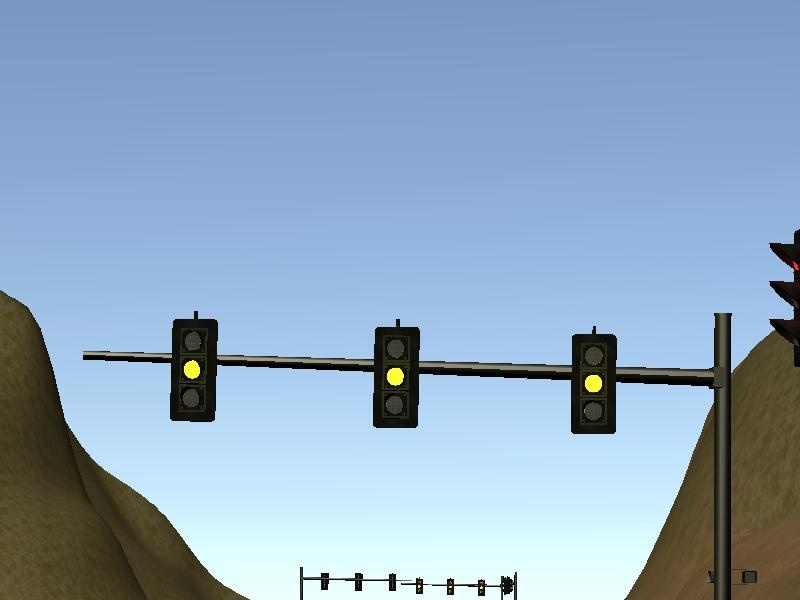YELLOW: (167, 316, 217, 423), (371, 324, 421, 431), (567, 329, 617, 436)
